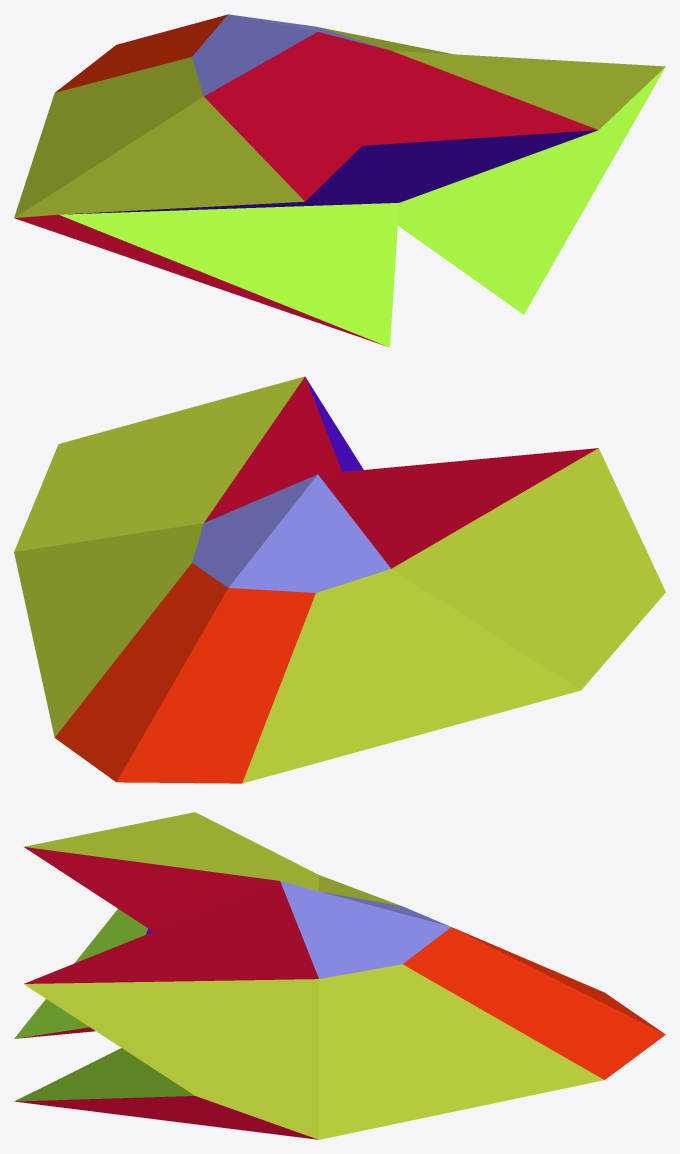
Rendered from PopcornVihu.fbx.
The picture shows the model from 3 angles, top to bottom: view 1: azimuth 30°, elevation 25°; view 2: azimuth 150°, elevation 25°; view 3: azimuth 270°, elevation 25°; orthographic projection. The views are drawn at different scales.
Visible parts, largest first — view 1: PopcornVihu; view 2: PopcornVihu; view 3: PopcornVihu.
Boxes of the visible parts, box(x1,y1,x2,y2) form: PopcornVihu: box(14, 14, 665, 347); PopcornVihu: box(14, 376, 665, 783); PopcornVihu: box(14, 812, 665, 1139).
Size of the model in its own units: 648 by 201 by 629.
